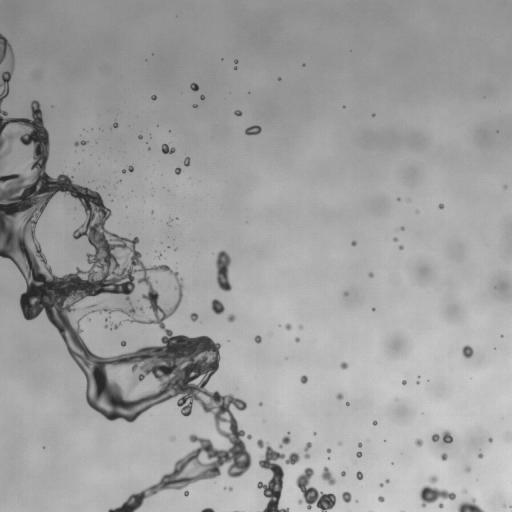droplet: (257, 439, 300, 511), (296, 467, 336, 511), (419, 485, 455, 507), (431, 430, 453, 443), (321, 467, 335, 485), (211, 299, 224, 314), (245, 125, 261, 135), (462, 345, 473, 358), (161, 144, 174, 154), (342, 491, 351, 502), (429, 475, 438, 484), (415, 438, 423, 447), (190, 83, 198, 91), (190, 313, 198, 321), (227, 314, 235, 322), (184, 156, 190, 166), (254, 335, 261, 343), (340, 362, 348, 369), (300, 375, 307, 383), (356, 471, 363, 479), (440, 453, 447, 460), (234, 110, 242, 116), (175, 167, 181, 174), (285, 323, 291, 330), (336, 393, 343, 399), (438, 203, 444, 209), (356, 451, 362, 457), (294, 337, 300, 342), (121, 340, 126, 346), (226, 486, 232, 491), (378, 496, 384, 501), (438, 502, 443, 508), (151, 95, 156, 100), (351, 240, 356, 245), (398, 245, 403, 250), (368, 272, 373, 277), (372, 420, 377, 425), (478, 453, 483, 458), (465, 467, 470, 472), (507, 434, 511, 440), (184, 490, 188, 496), (200, 94, 204, 99), (113, 122, 117, 127), (298, 325, 303, 329), (358, 442, 362, 447), (341, 471, 345, 476), (138, 135, 142, 139), (400, 226, 404, 230), (393, 237, 397, 241), (402, 380, 406, 384), (170, 437, 174, 441), (488, 438, 492, 442), (326, 448, 330, 452), (385, 479, 389, 483), (462, 488, 466, 492), (193, 104, 197, 107), (259, 402, 262, 406), (234, 60, 237, 63), (344, 292, 347, 295), (416, 381, 419, 384), (346, 402, 349, 405), (380, 483, 383, 486), (278, 77, 280, 80), (372, 113, 374, 116), (397, 198, 400, 200), (159, 254, 161, 257), (372, 308, 375, 310), (105, 325, 107, 327)
ligament: (0, 33, 251, 511), (215, 250, 231, 291), (458, 498, 484, 511), (279, 434, 290, 448), (304, 442, 311, 458), (122, 165, 133, 173), (74, 140, 87, 146), (112, 322, 122, 329), (201, 507, 214, 511), (233, 510, 238, 511), (401, 510, 404, 511)
